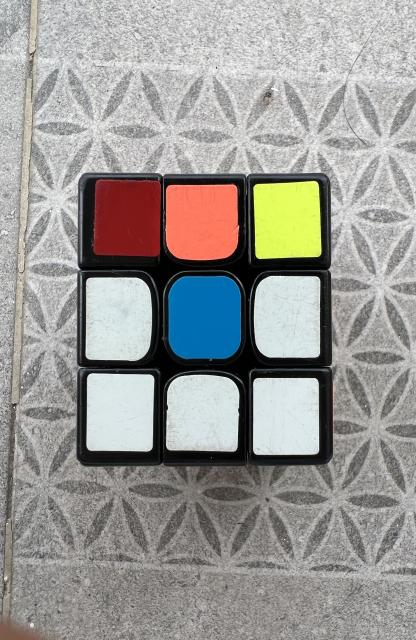Blue: (169, 276, 242, 359)
Orange: (166, 184, 239, 261)
Red: (93, 180, 160, 256)
White: (86, 278, 153, 361), (166, 375, 239, 451), (254, 276, 321, 358), (87, 374, 155, 451), (252, 378, 320, 455)
Yellow: (254, 181, 322, 259)
